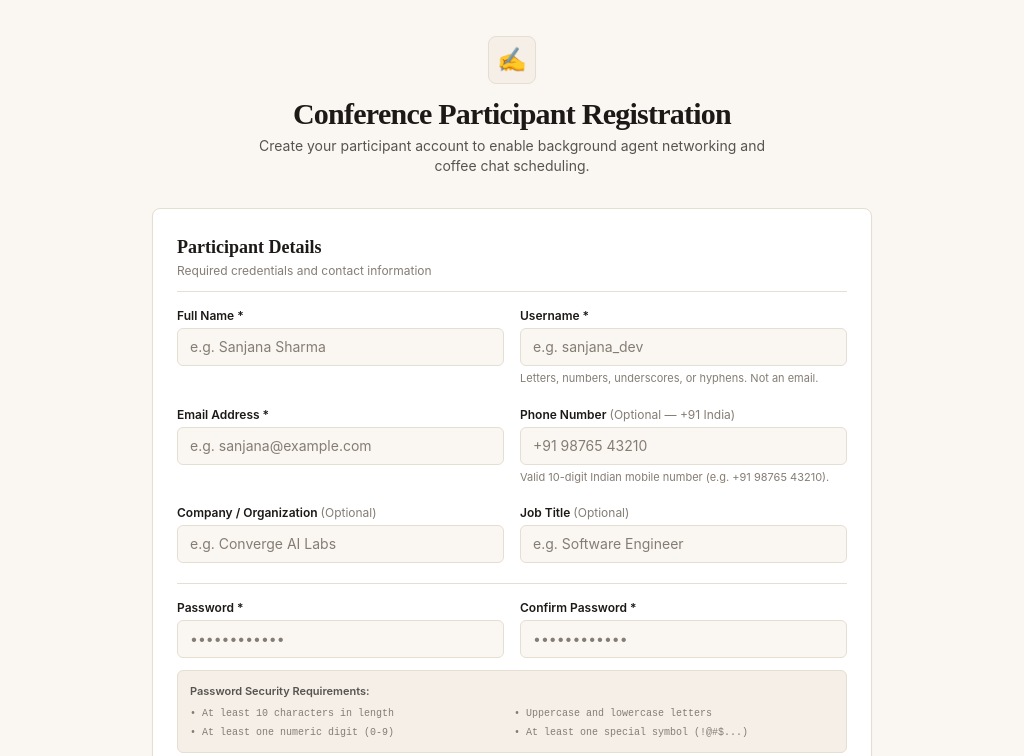
Test: Register Component › validates Indian +91 phone numbers strictly when provided
Type "Sanjana Sharma" into the field labelled "Full Name *" at (340, 347), box [177, 328, 504, 366]
Type "sanjana_m" into the field labelled "Username *" at (684, 347), box [520, 328, 847, 366]
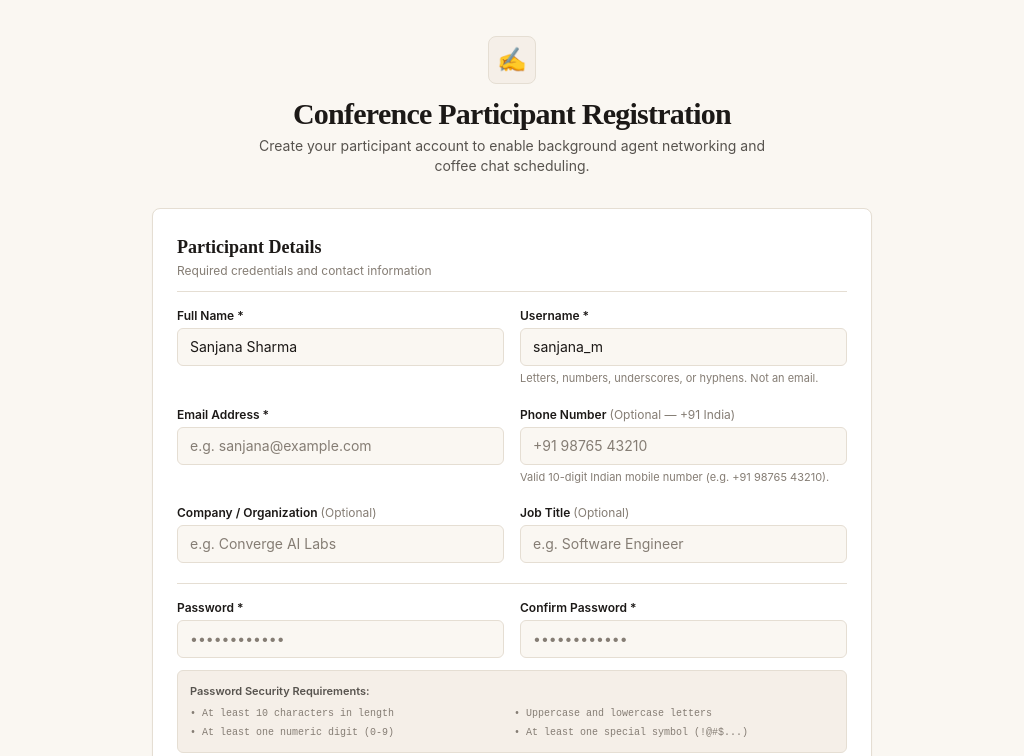
Type "sanjana@example.com" into the field labelled "Email Address *" at (340, 446), box [177, 426, 504, 464]
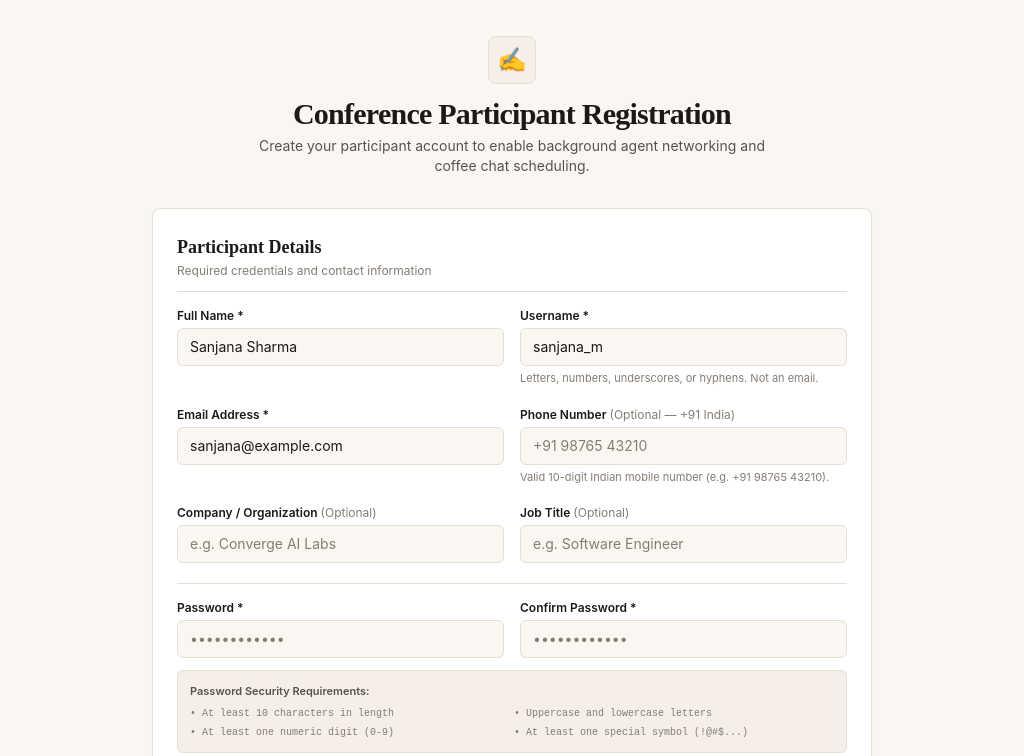
Type "12345" into the field labelled "Phone Number (Optional — +91 India)" at (684, 446), box [520, 426, 847, 464]
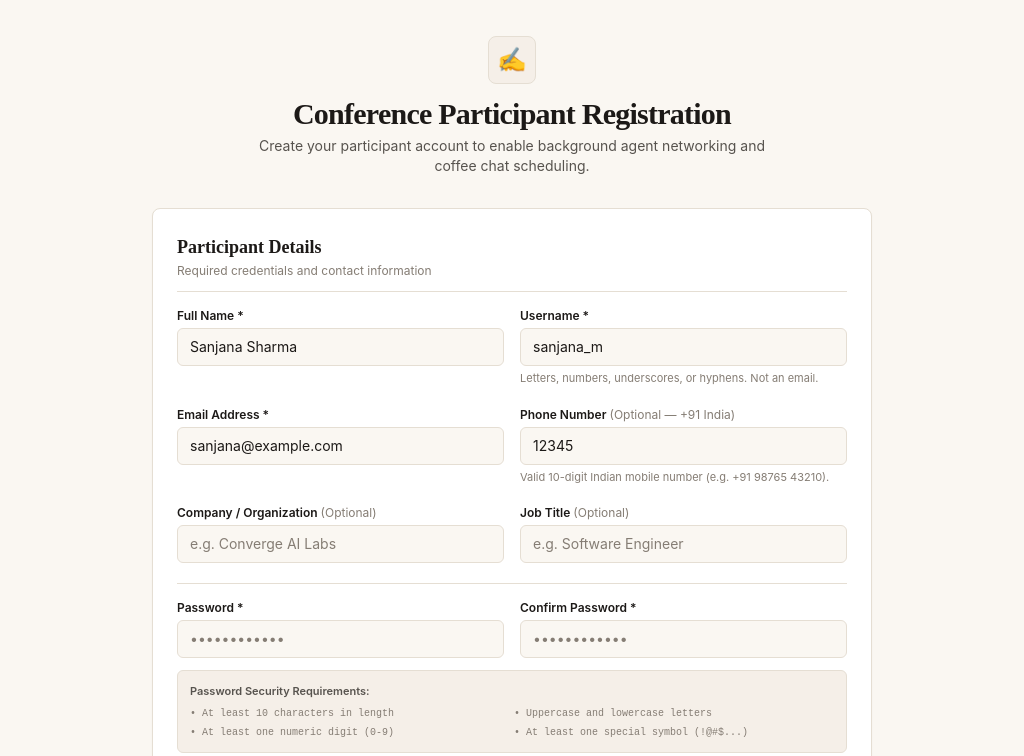
Type "ValidPassword123!" into the password field labelled "Password *" at (340, 639), box [177, 620, 504, 658]
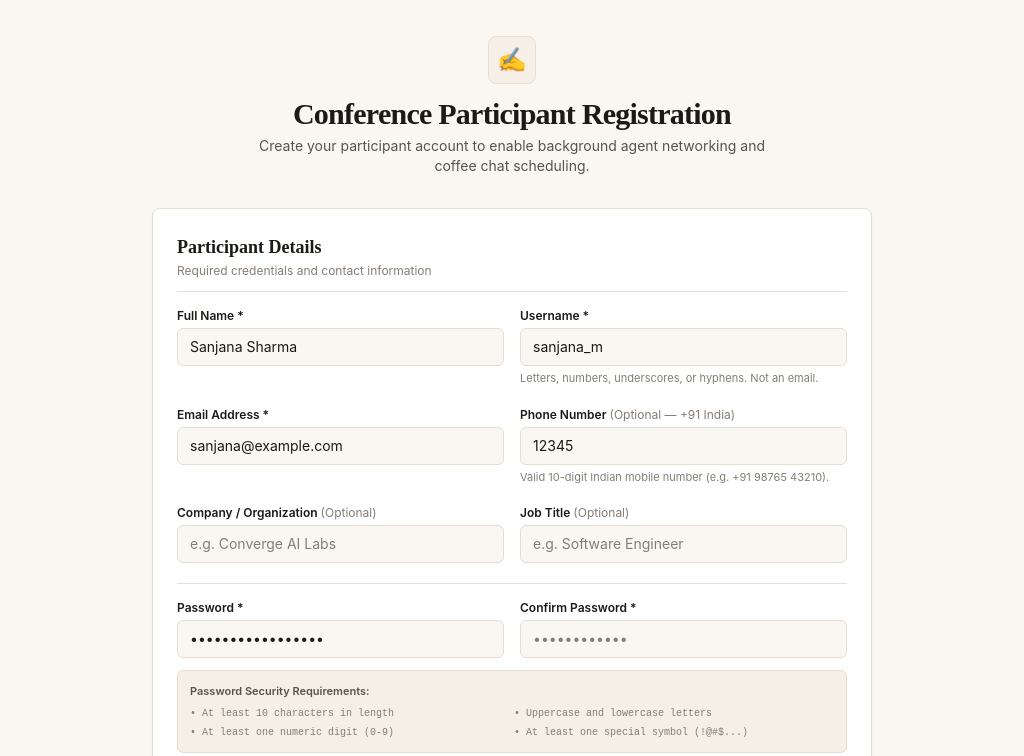
Type "ValidPassword123!" into the password field labelled "Confirm Password *" at (684, 639), box [520, 620, 847, 658]
(page scrolled)
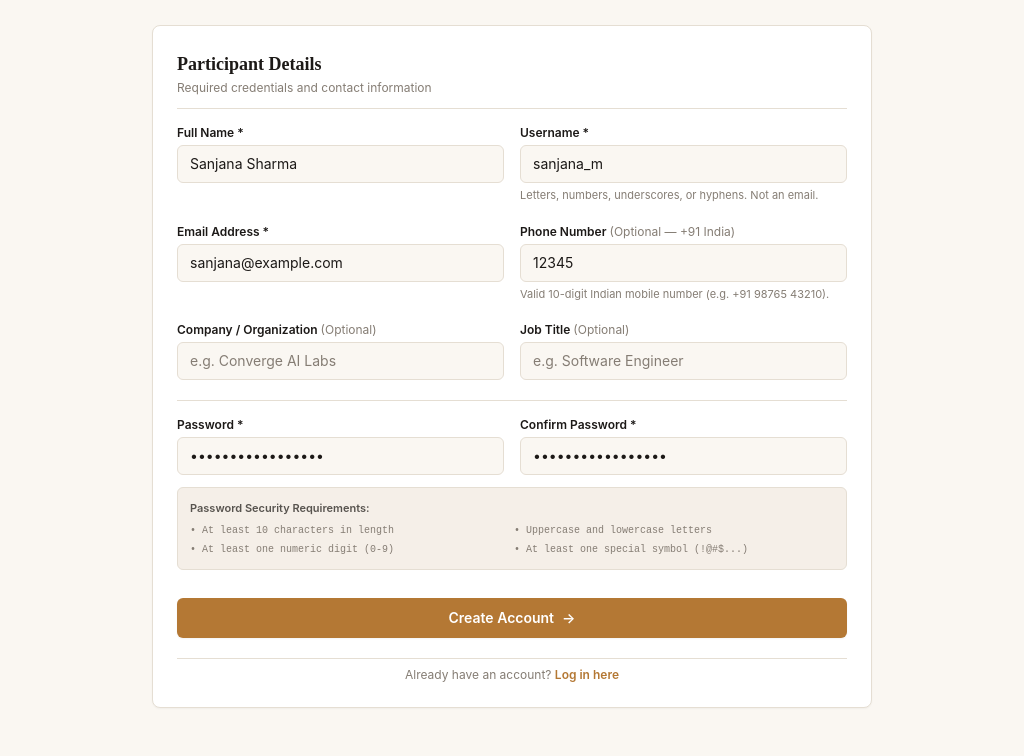
Click the button "Create Account →" at (512, 618), box [177, 598, 847, 638]
(page scrolled)
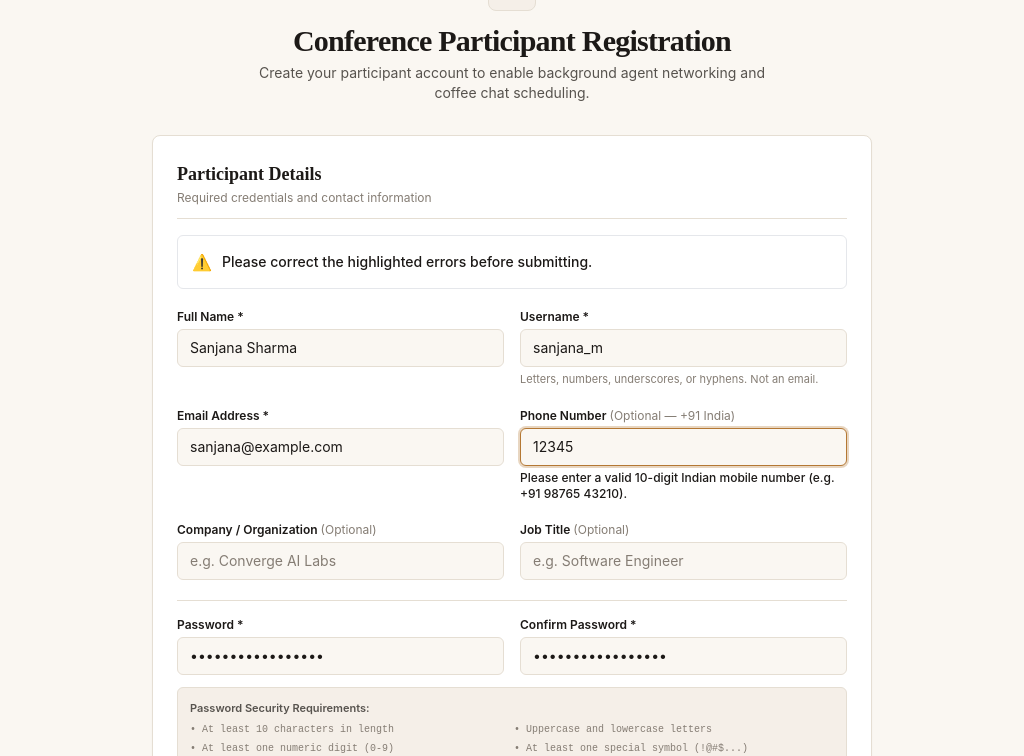
Check: the text "Please enter a valid 10-digit Indian mobile number" is shown, box [520, 470, 834, 500]
